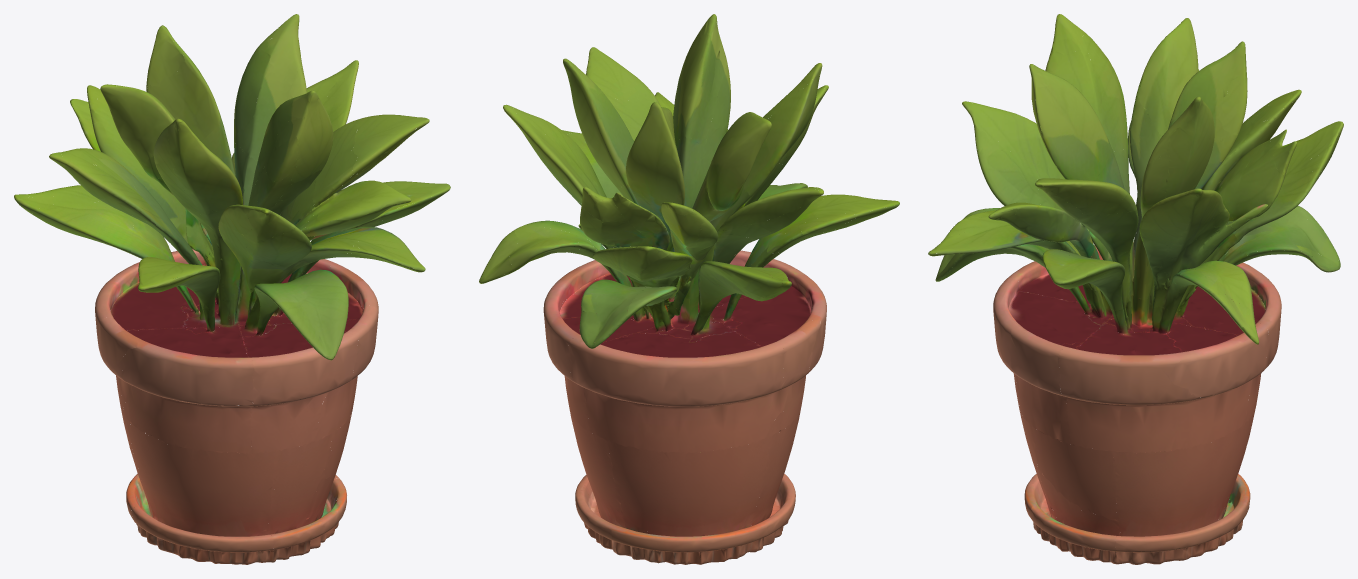
The picture shows the model from 3 angles, left to right: view 1: azimuth 30°, elevation 25°; view 2: azimuth 150°, elevation 25°; view 3: azimuth 270°, elevation 25°; orthographic projection.
Parts seen in each view (by area): view 1: tripo_node_5dcefa77-ab7b-4d34-8cd1-e2bc49b2181b; view 2: tripo_node_5dcefa77-ab7b-4d34-8cd1-e2bc49b2181b; view 3: tripo_node_5dcefa77-ab7b-4d34-8cd1-e2bc49b2181b.
Boxes of the visible parts, x1,y1,x2,y2 form: tripo_node_5dcefa77-ab7b-4d34-8cd1-e2bc49b2181b: (14, 14, 450, 564); tripo_node_5dcefa77-ab7b-4d34-8cd1-e2bc49b2181b: (479, 14, 899, 564); tripo_node_5dcefa77-ab7b-4d34-8cd1-e2bc49b2181b: (928, 14, 1343, 564).
Bounding box in the file's own units: 0.7617 × 1 × 0.7989.
Materials: 1 (1 with a texture image).
